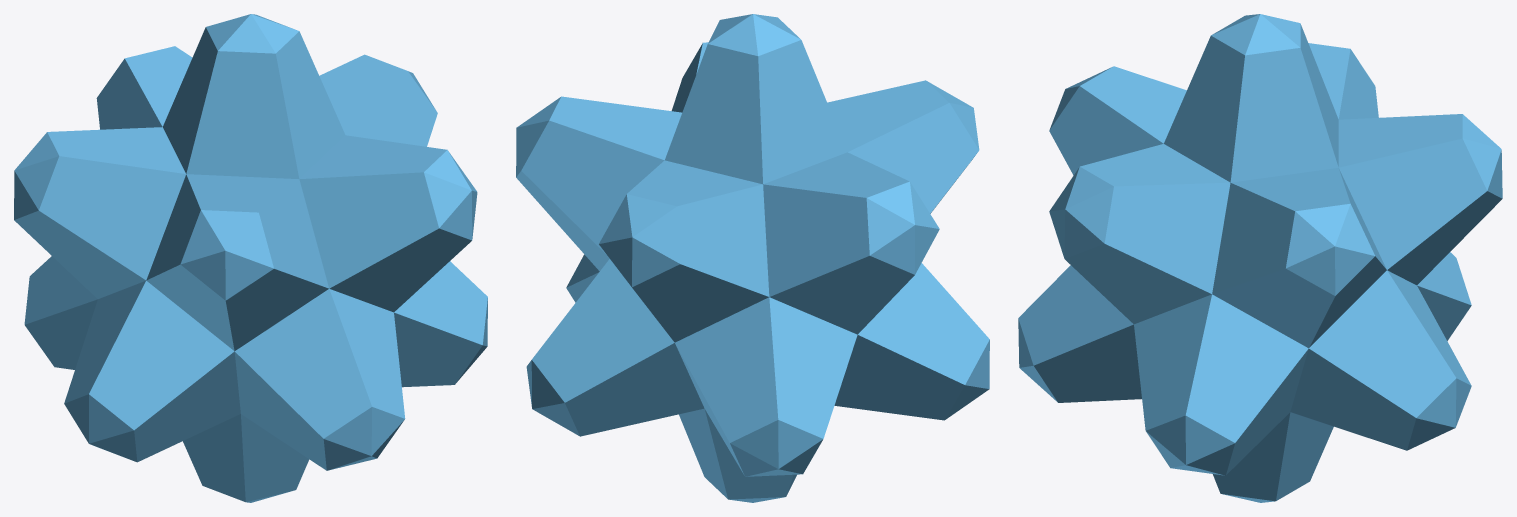
The model's file is Charger.fbx.
The picture shows the model from 3 angles, left to right: view 1: azimuth 30°, elevation 25°; view 2: azimuth 150°, elevation 25°; view 3: azimuth 270°, elevation 25°; orthographic projection.
Parts seen in each view (by area): view 1: Solid; view 2: Solid; view 3: Solid.
Boxes of the visible parts, x1,y1,x2,y2 form: Solid: (14,14,487,502); Solid: (516,14,989,502); Solid: (1018,14,1502,502).
Bounding box in the file's own units: 289 × 339 × 304.
